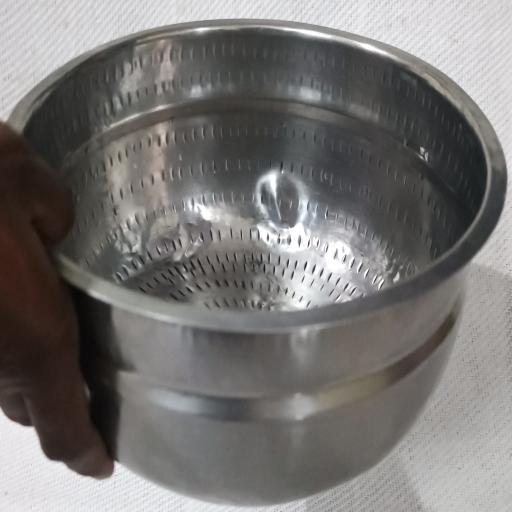vessel: (10, 21, 506, 504)
